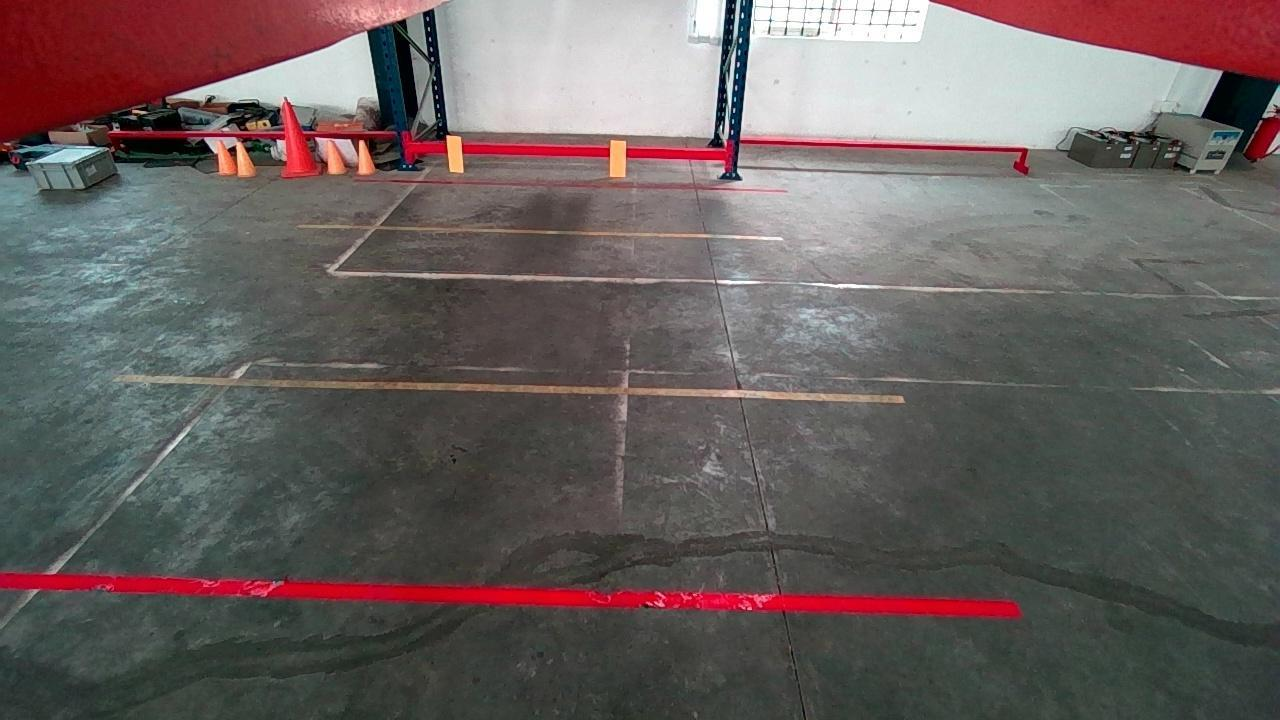h_rack: (409, 141, 725, 162)
orange_strip: (446, 135, 464, 171), (610, 140, 626, 176)
yellow_line: (124, 374, 905, 405), (297, 219, 788, 248)
